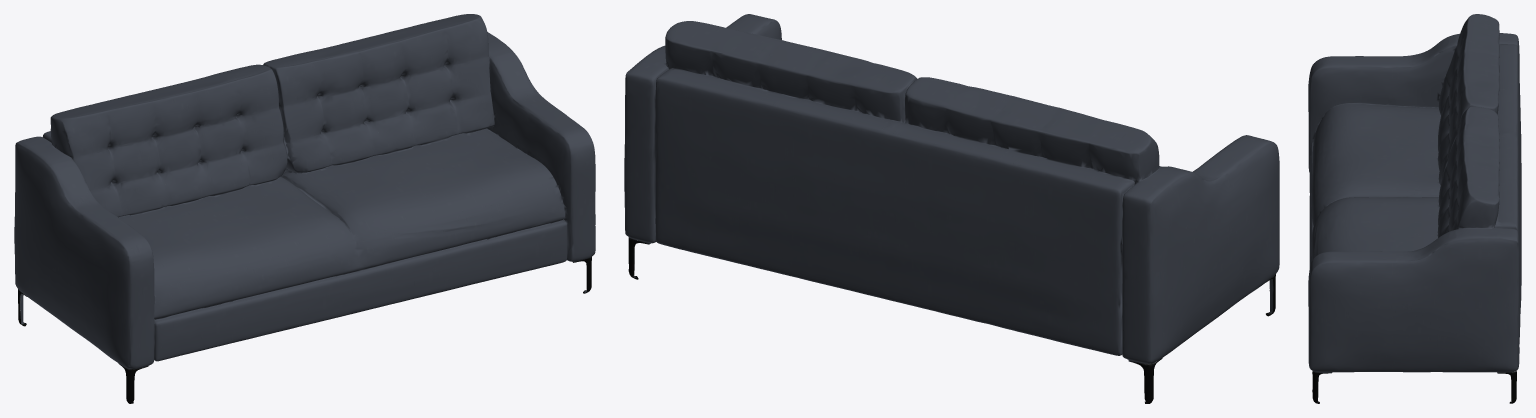
3 views of the same model, side by side, from view 1: azimuth 30°, elevation 25°; view 2: azimuth 150°, elevation 25°; view 3: azimuth 270°, elevation 25° (orthographic). The views are drawn at different scales.
Visible parts, largest first — view 1: tripo_node_a0da53c0-c174-4b00-b15a-59d7706493b3; view 2: tripo_node_a0da53c0-c174-4b00-b15a-59d7706493b3; view 3: tripo_node_a0da53c0-c174-4b00-b15a-59d7706493b3.
Part boxes in pixels (x1,y1,x2,y2): tripo_node_a0da53c0-c174-4b00-b15a-59d7706493b3: [14, 14, 595, 403]; tripo_node_a0da53c0-c174-4b00-b15a-59d7706493b3: [624, 14, 1279, 403]; tripo_node_a0da53c0-c174-4b00-b15a-59d7706493b3: [1308, 14, 1521, 403].
Size of the model in its own units: 1.9 by 0.82 by 0.8.
Materials: 2 (2 with a texture image).
